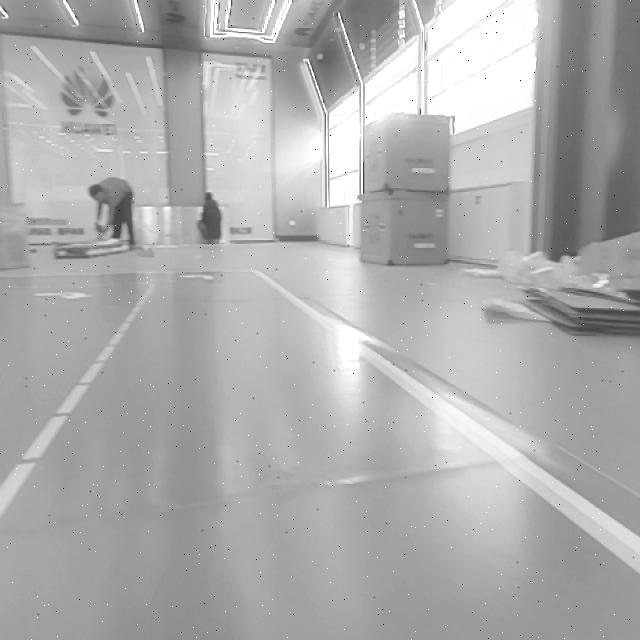left_lane: (0, 289, 148, 514)
right_lane: (269, 279, 640, 576)
